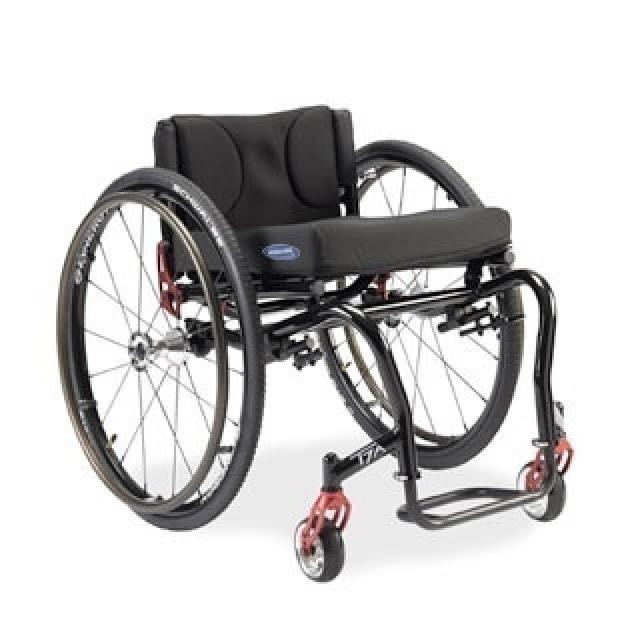wheelchair: (50, 88, 578, 586)
